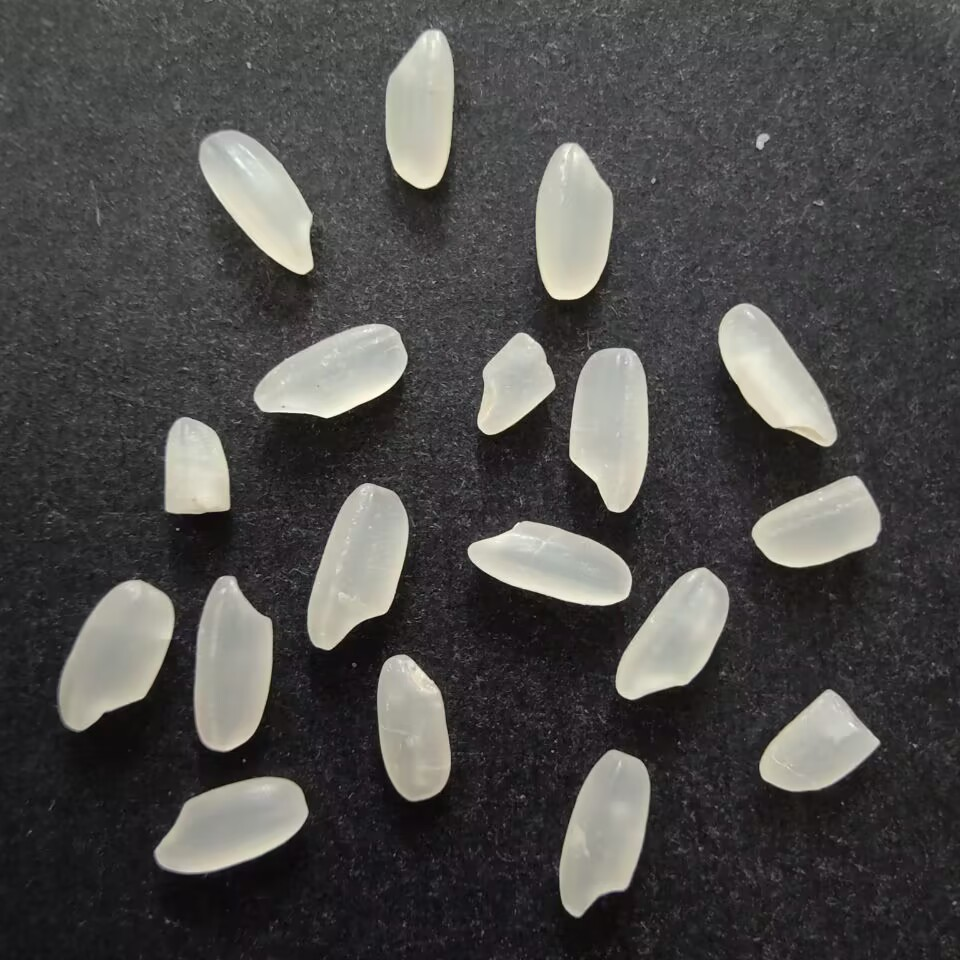broken: (748, 469, 886, 573), (753, 684, 880, 797), (473, 328, 557, 438), (159, 411, 236, 523)
rice: (55, 575, 181, 738), (300, 479, 415, 657), (192, 127, 322, 280), (716, 299, 840, 453), (557, 745, 659, 923), (610, 563, 733, 705), (149, 774, 311, 879), (246, 318, 414, 419), (191, 567, 278, 755), (458, 519, 638, 607), (563, 345, 653, 515), (526, 141, 617, 304), (378, 23, 462, 190), (370, 648, 458, 803)
